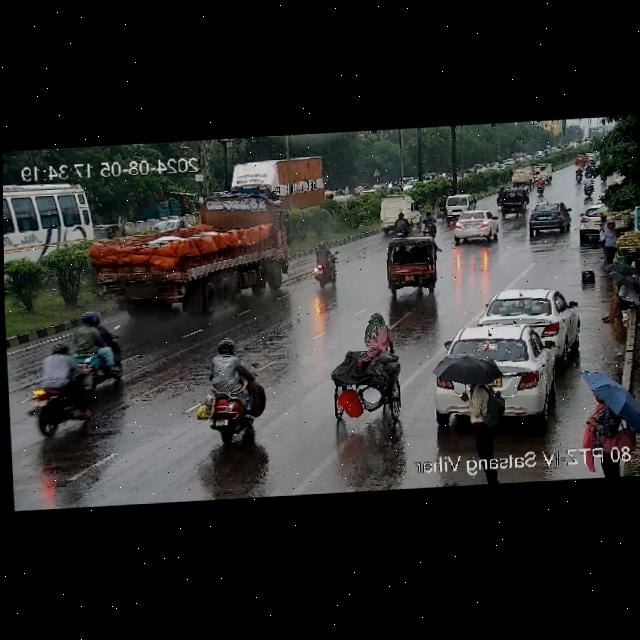bus: (3, 174, 97, 265)
car: (318, 301, 403, 434), (430, 323, 566, 394), (480, 286, 579, 350), (383, 236, 440, 284), (523, 198, 574, 233), (448, 209, 499, 243), (578, 205, 627, 235), (502, 186, 527, 216), (446, 193, 477, 213)
motorcycle: (185, 334, 272, 443), (20, 343, 105, 434), (77, 310, 123, 386), (308, 240, 345, 289), (420, 209, 437, 233), (395, 212, 410, 236), (435, 196, 446, 219), (536, 175, 546, 196), (584, 174, 594, 195), (493, 187, 503, 205), (574, 167, 583, 182), (585, 164, 592, 177), (582, 158, 586, 167)
person: (464, 356, 507, 449), (586, 394, 623, 448), (600, 280, 640, 323), (603, 219, 618, 272), (599, 213, 607, 245)
truck: (99, 185, 295, 326), (213, 155, 331, 206), (373, 193, 422, 233), (510, 166, 534, 187), (534, 163, 553, 183)
